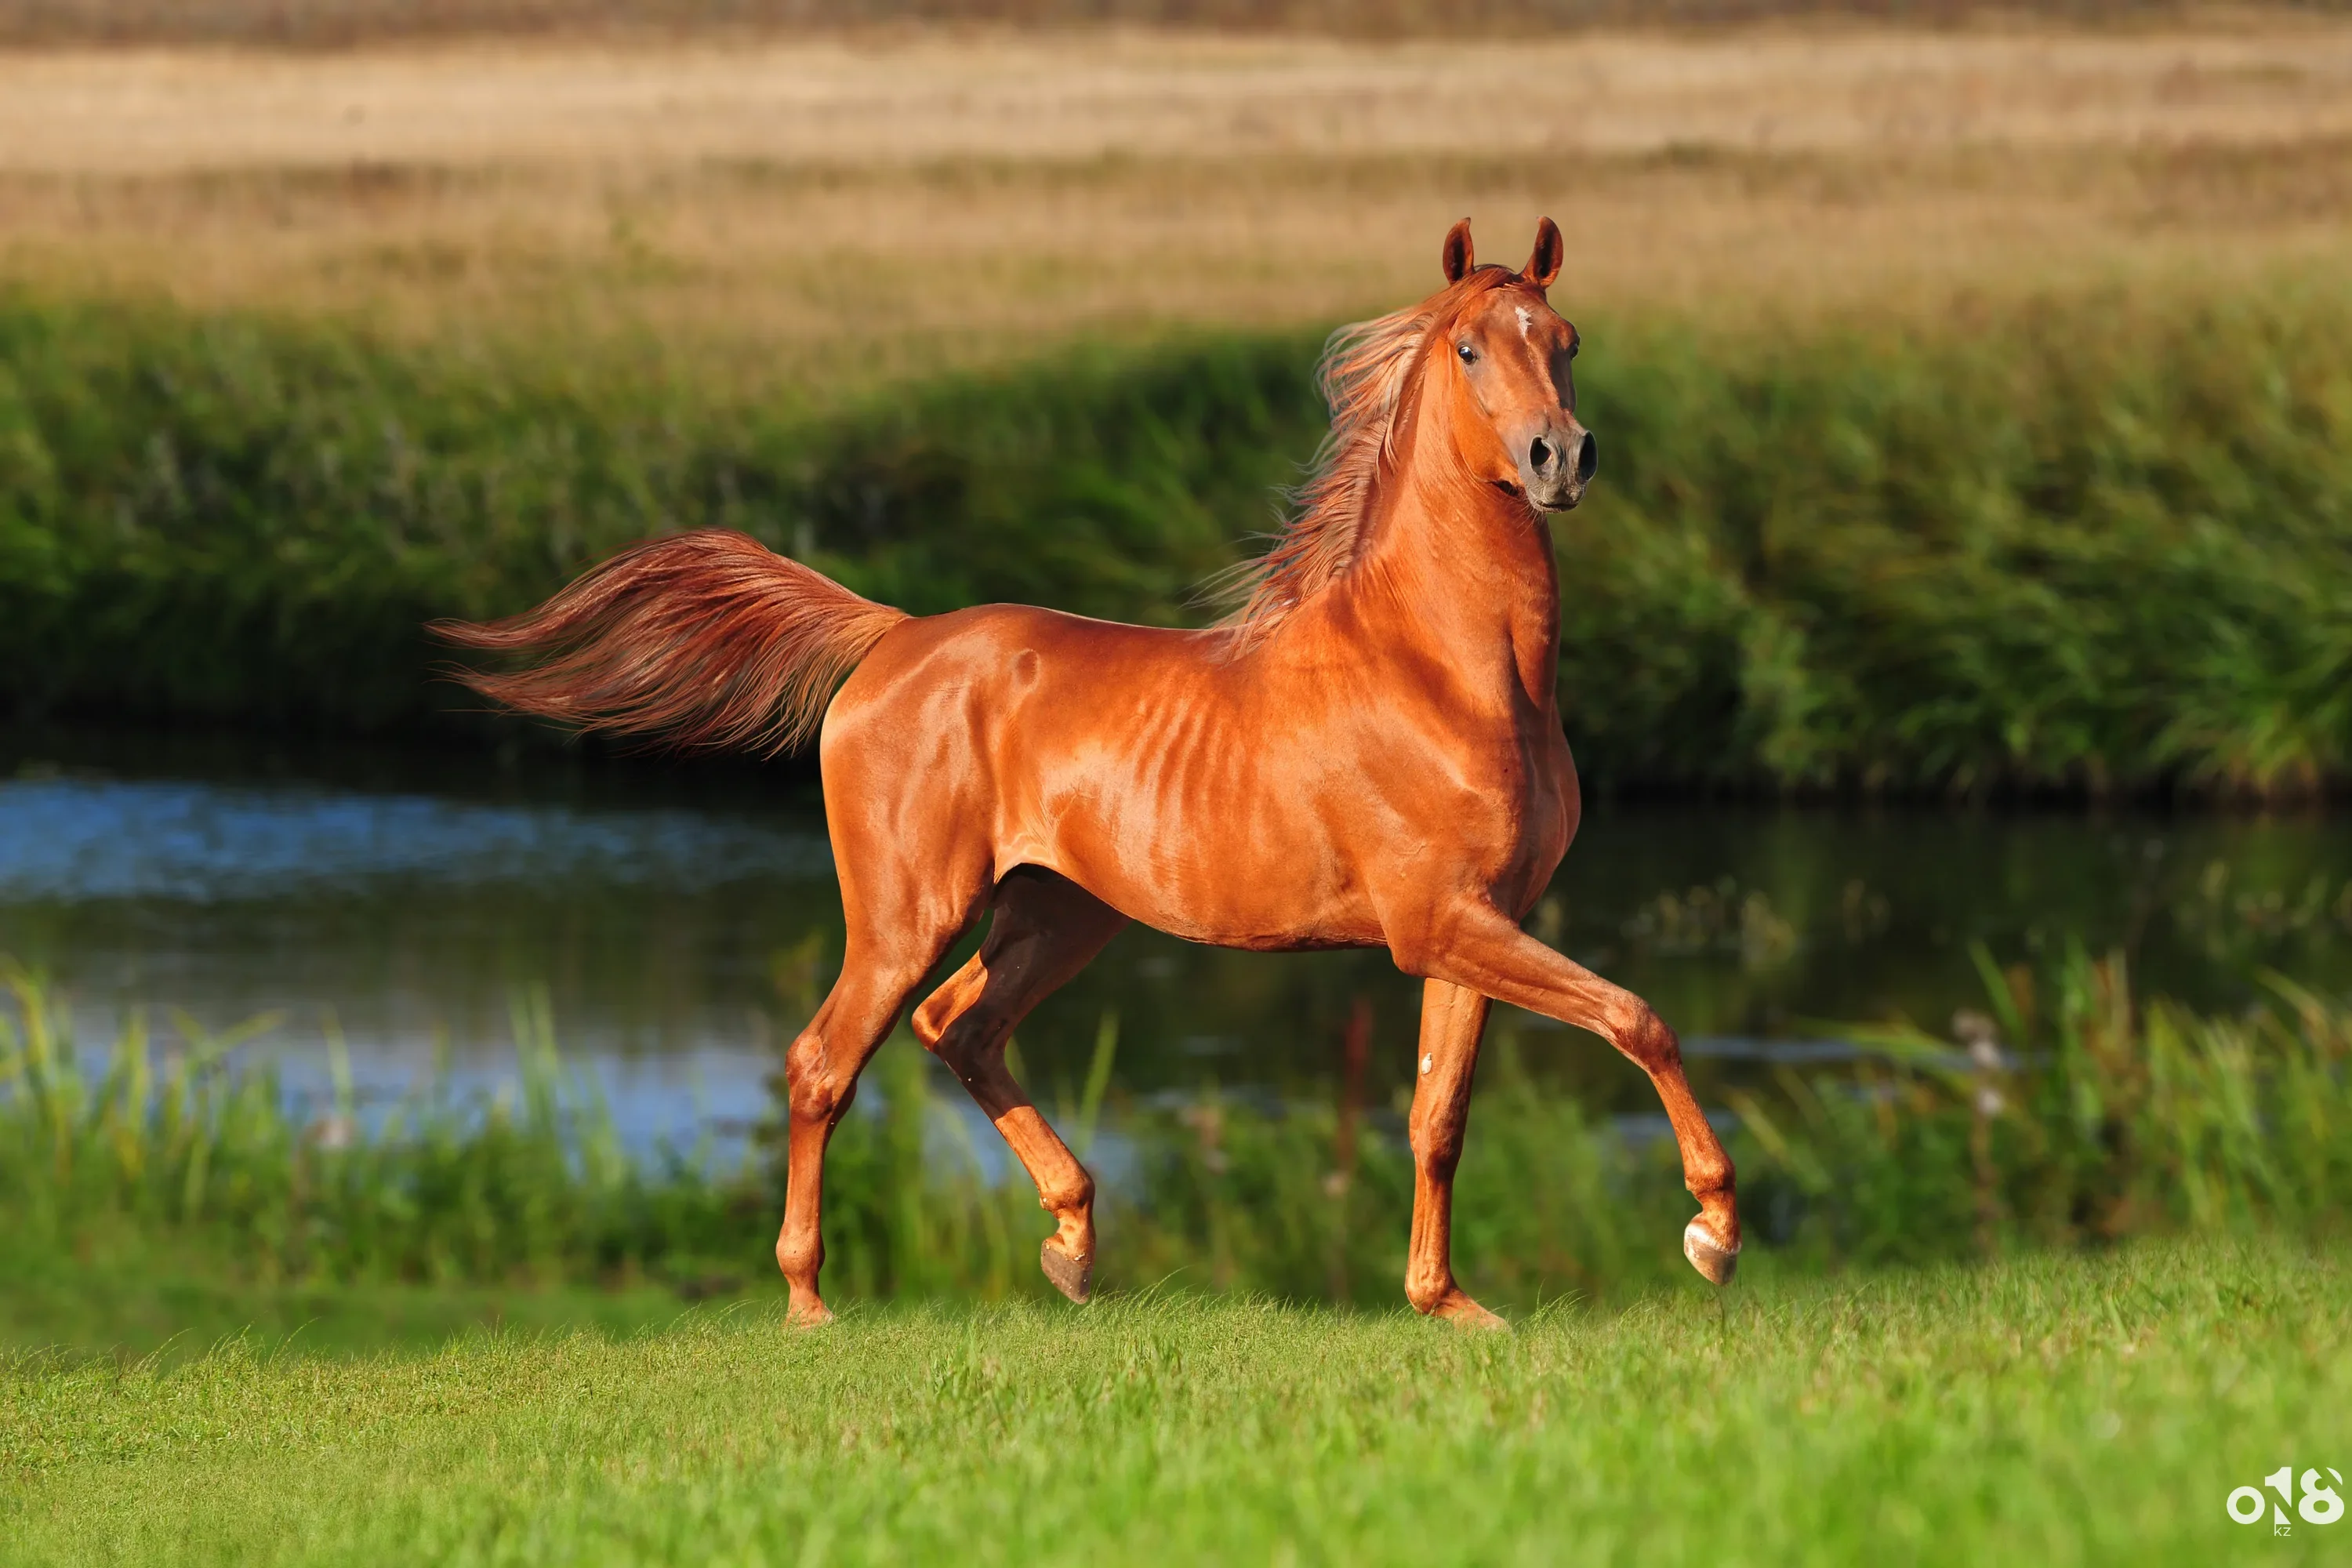horse: (837, 245, 1696, 1333)
